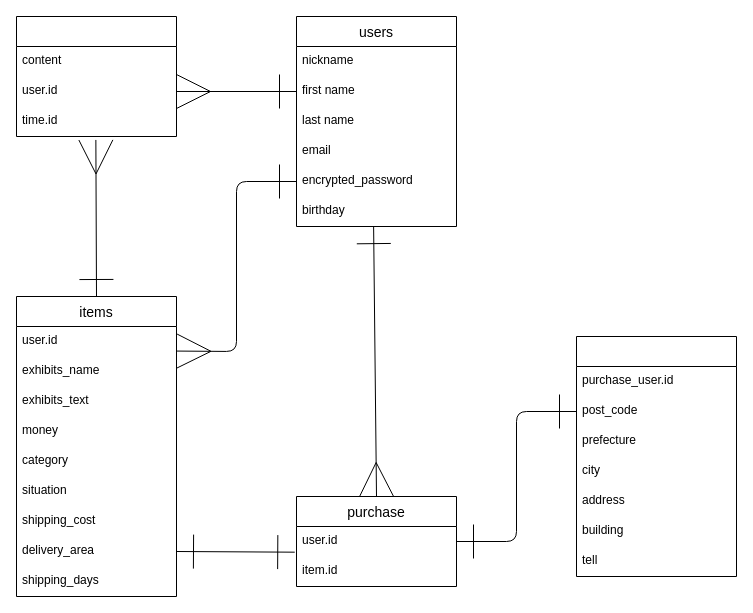
Some shapes in this 753 by 613 pixel diagram are drawn without their labels. Each missing label, with the box of its shape:
comments: (16, 16, 176, 136)
send: (576, 336, 736, 576)
